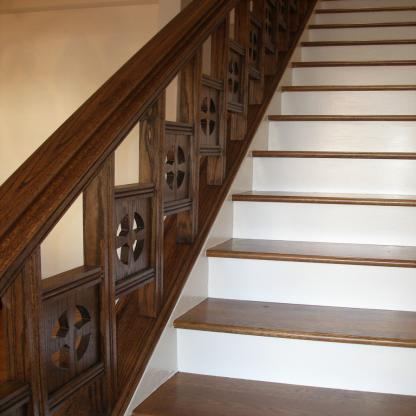stair: (164, 1, 416, 416)
